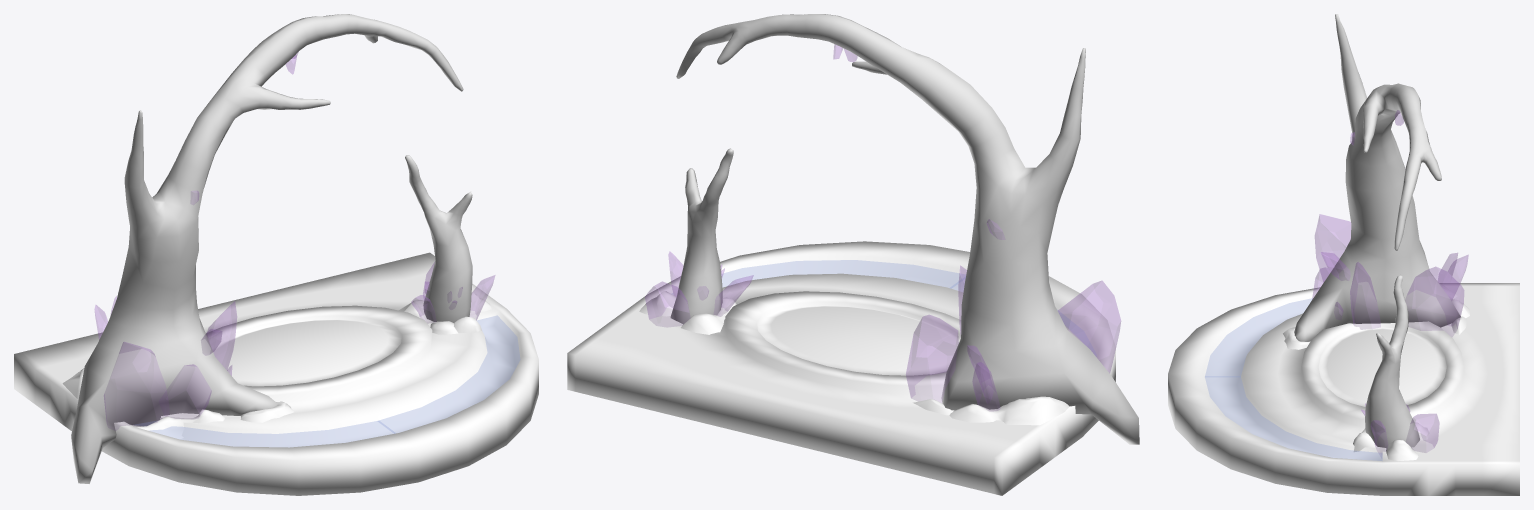
The model's file is Portal.fbx.
3 views of the same model, side by side, from view 1: azimuth 30°, elevation 25°; view 2: azimuth 150°, elevation 25°; view 3: azimuth 270°, elevation 25° (orthographic). The views are drawn at different scales.
Visible parts, largest first — view 1: LPPortalBase, LPPortalTree, Crystal, WaterPlane; view 2: LPPortalBase, LPPortalTree, Crystal, WaterPlane; view 3: LPPortalBase, LPPortalTree, Crystal, WaterPlane.
Boxes of the visible parts, x1,y1,x2,y2 form: LPPortalBase: (14,252,538,495); LPPortalTree: (71,14,472,483); Crystal: (94,52,495,430); WaterPlane: (135,315,520,447); LPPortalBase: (567,241,1115,495); LPPortalTree: (670,14,1139,444); Crystal: (645,44,1120,410); WaterPlane: (672,260,1095,355); LPPortalBase: (1168,281,1519,495); LPPortalTree: (1294,14,1460,447); Crystal: (1312,110,1468,454); WaterPlane: (1205,298,1382,460).
Size of the model in its own units: 5.26 by 4.21 by 3.99.
